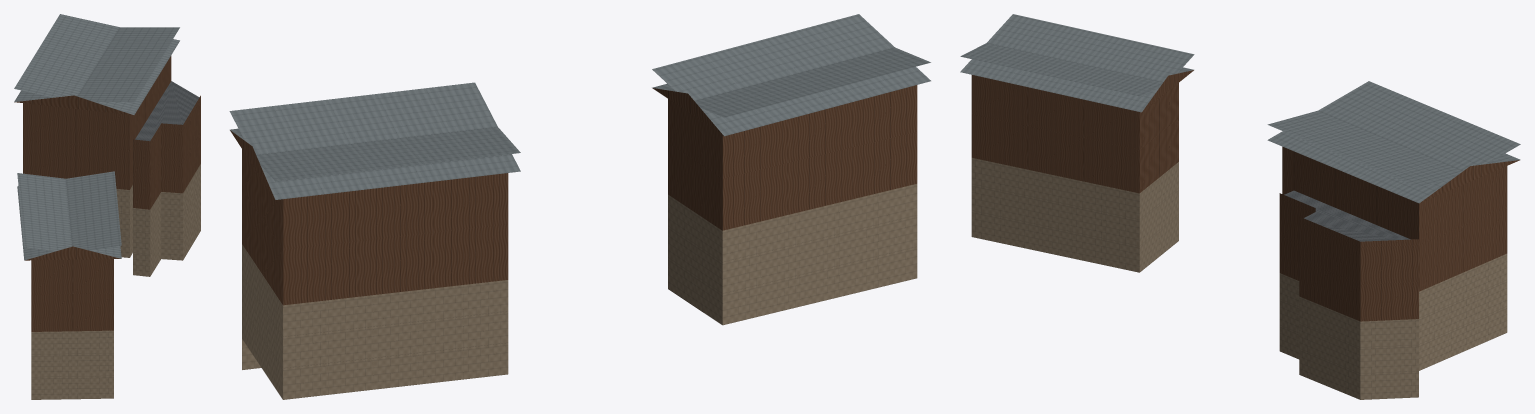
File: bld_c12_41_481.gltf
The picture shows the model from 3 angles, left to right: view 1: azimuth 30°, elevation 25°; view 2: azimuth 150°, elevation 25°; view 3: azimuth 270°, elevation 25°; orthographic projection. The views are drawn at different scales.
Visible parts, largest first — view 1: bld_c12_41_481; view 2: bld_c12_41_481; view 3: bld_c12_41_481.
Boxes of the visible parts, x1=… form: bld_c12_41_481: x1=14, y1=14, x2=200, y2=399; bld_c12_41_481: x1=229, y1=14, x2=930, y2=399; bld_c12_41_481: x1=960, y1=14, x2=1520, y2=399.
Bounding box in the file's own units: 25.93 × 13.8 × 32.7.
Materials: 5 (5 with a texture image).
